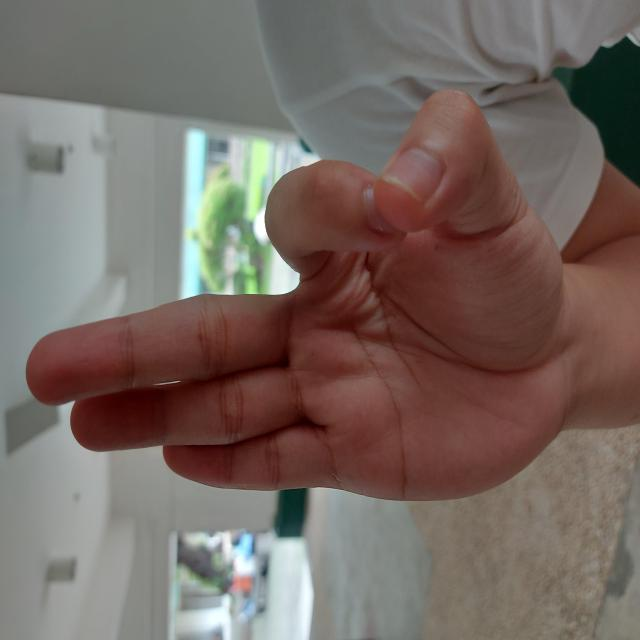F: (134, 22, 556, 565)
